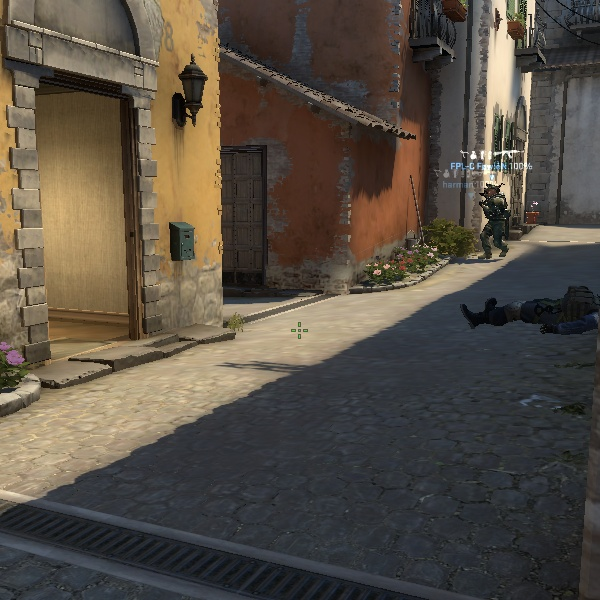ct_body: (469, 181, 516, 262)
